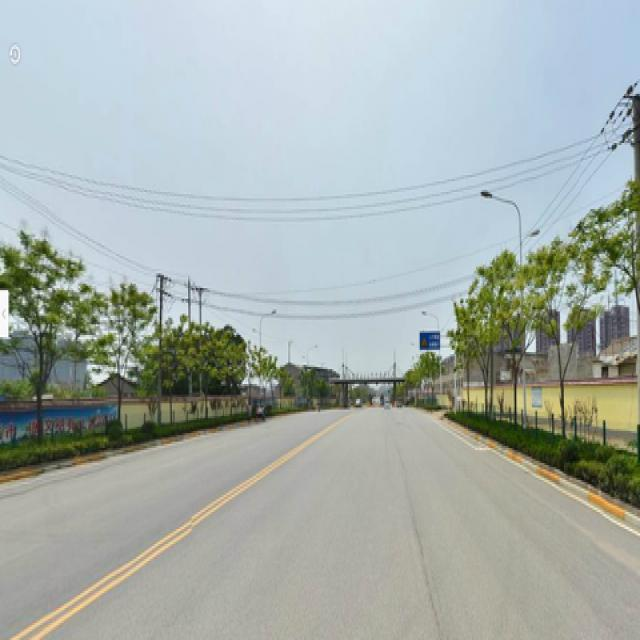koel: (530, 243, 586, 414), (13, 245, 67, 414), (94, 290, 138, 437), (488, 256, 525, 405), (602, 209, 638, 318), (452, 299, 483, 399)
